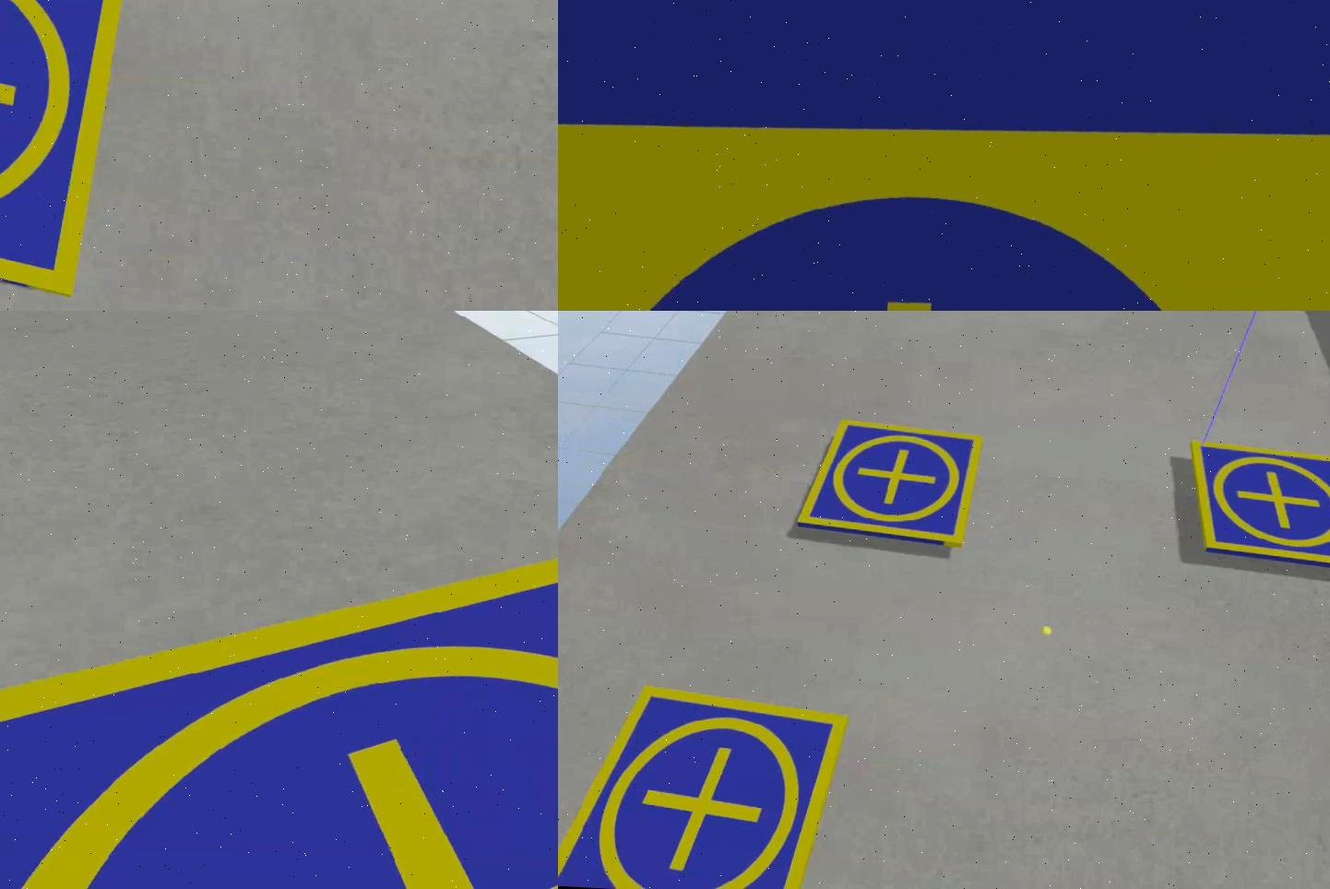large_base: (558, 1, 1330, 312)
small_base: (1, 502, 558, 889), (558, 683, 848, 889), (1, 1, 134, 304), (797, 417, 982, 550), (1187, 441, 1330, 579)
